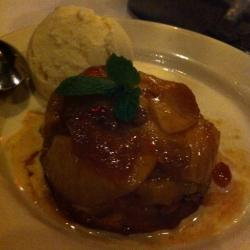apple_pie: (44, 73, 226, 239)
icecream: (24, 8, 144, 111)
